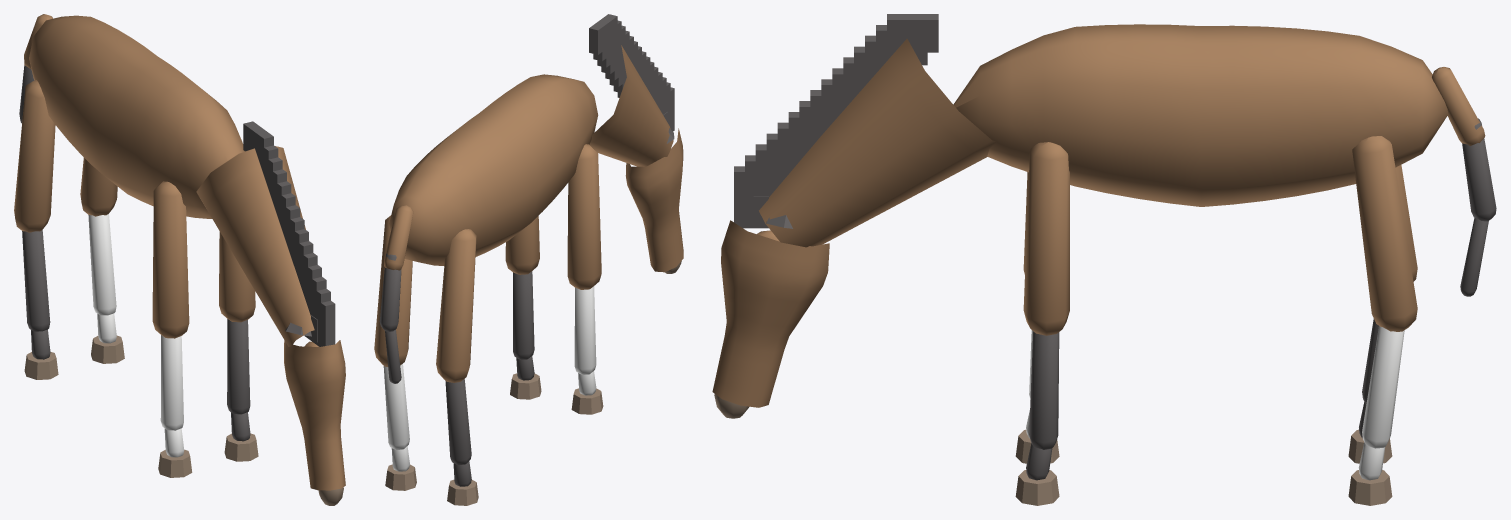
File: riding-horse-grazing-bay.glb
3 renders of one model, left to right at view 1: azimuth 30°, elevation 25°; view 2: azimuth 150°, elevation 25°; view 3: azimuth 270°, elevation 25°, orthographic. The views are drawn at different scales.
Parts seen in each view (by area): view 1: horse-grazing; view 2: horse-grazing; view 3: horse-grazing.
Part boxes in pixels (x1,y1,x2,y2): horse-grazing: (14, 14, 345, 505); horse-grazing: (374, 14, 683, 505); horse-grazing: (712, 14, 1496, 505).
Bounding box in the file's own units: 0.4689 × 1.66 × 2.57.
